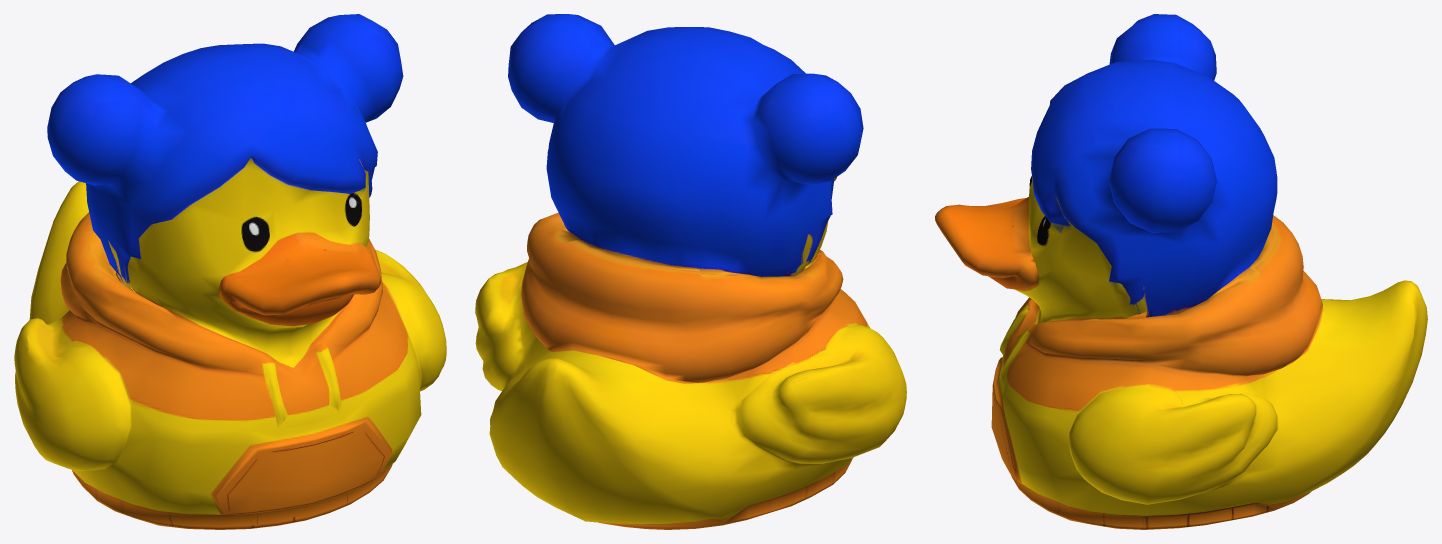
File: FBX_NEW_Sophia.fbx
3 renders of one model, left to right at view 1: azimuth 30°, elevation 25°; view 2: azimuth 150°, elevation 25°; view 3: azimuth 270°, elevation 25°, orthographic. The views are drawn at different scales.
Visible parts, largest first — view 1: temp; view 2: temp; view 3: temp.
Part boxes in pixels (left/top/right/bottom): temp: left=14, top=14, right=446, bottom=529; temp: left=475, top=14, right=906, bottom=529; temp: left=935, top=14, right=1427, bottom=529.
Size of the model in its own units: 169 by 169 by 191.
Materials: 1 (1 with a texture image).
